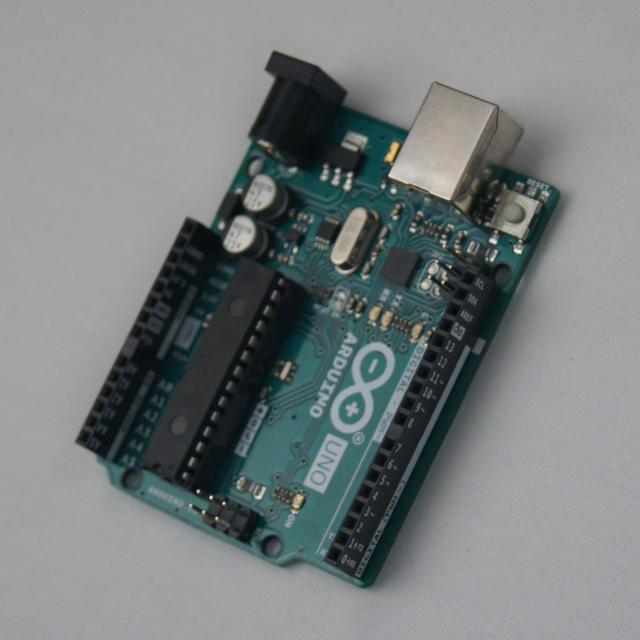Arduino Uno -Green-: (79, 52, 559, 587)
